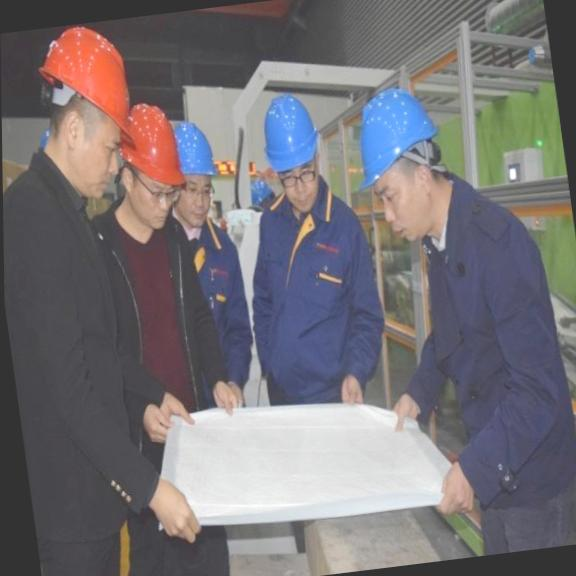no_safety_vest: (2, 153, 156, 537), (408, 183, 576, 466)
